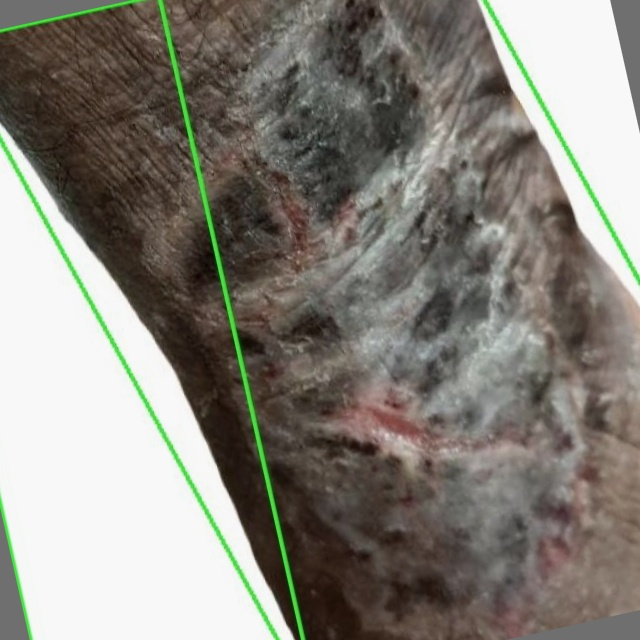Eczema: (0, 0, 639, 639), (0, 0, 303, 639)
